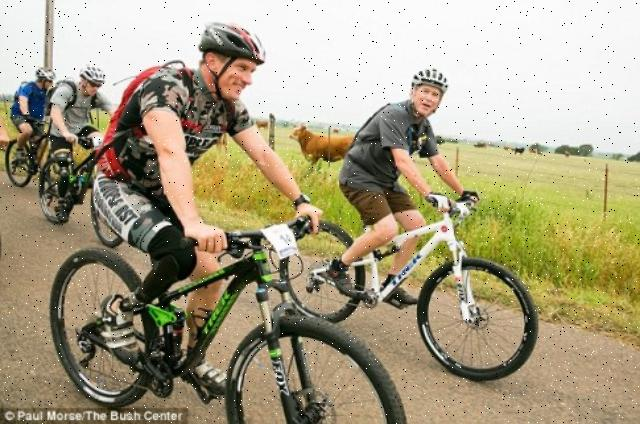With Helmet: (195, 12, 268, 106), (411, 64, 449, 118), (78, 62, 110, 102), (30, 66, 56, 95)
